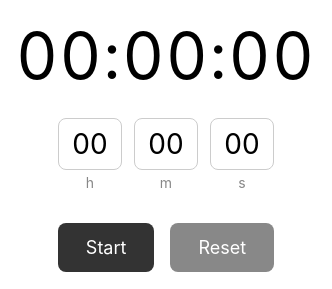
Test: TimerScreen › duration inputs › typing into the seconds input updates the time display
In the field with test id "input-seconds": x=242, y=144 [210,118,274,170], type "45"
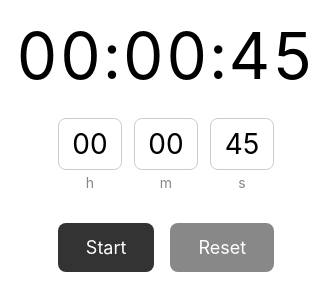
Expected: the text with test id "time-display" reads "00:00:45", [16,16,316,94]
